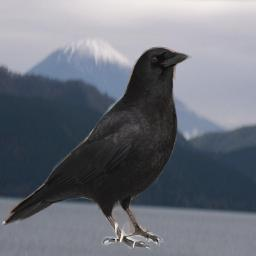Crow: (2, 43, 192, 250)
